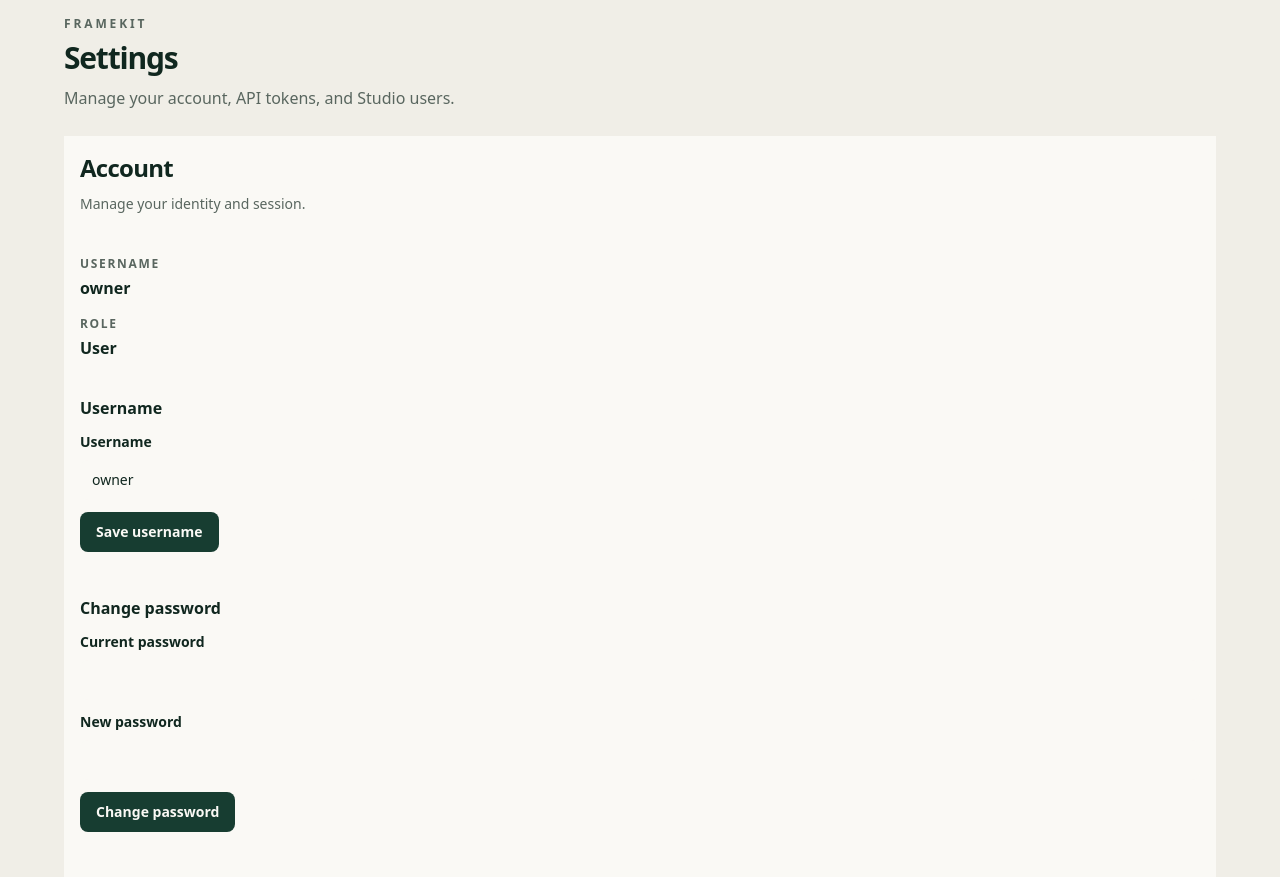
Test: FrameKitStudioSettings account workflows › updates the displayed safe identity and sends the exact account body
Replace the text in the field labelled "Username" with "renamed-owner" at (640, 480), box x1=80 y1=460 x2=1200 y2=500
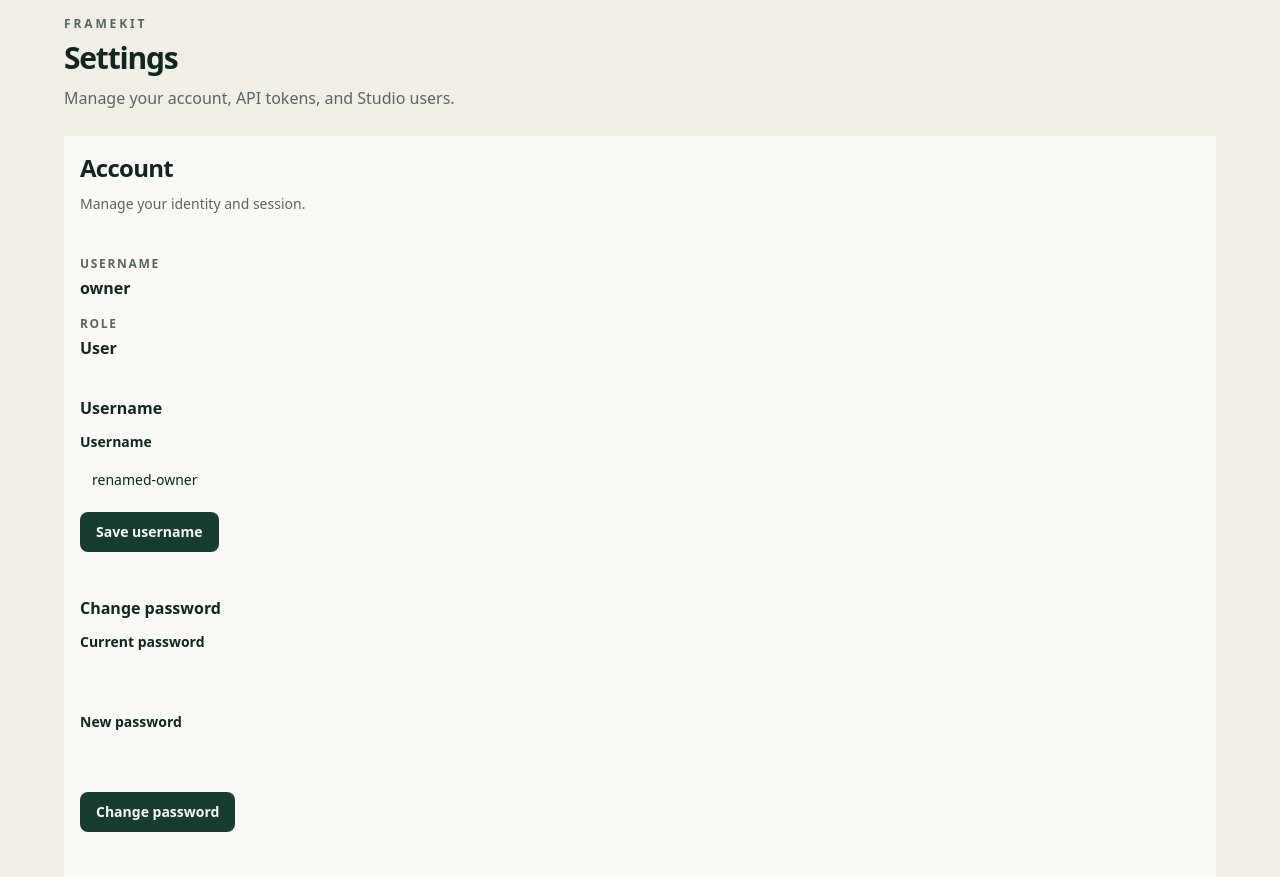
Submit the form "Save username", box x1=80 y1=376 x2=1200 y2=552
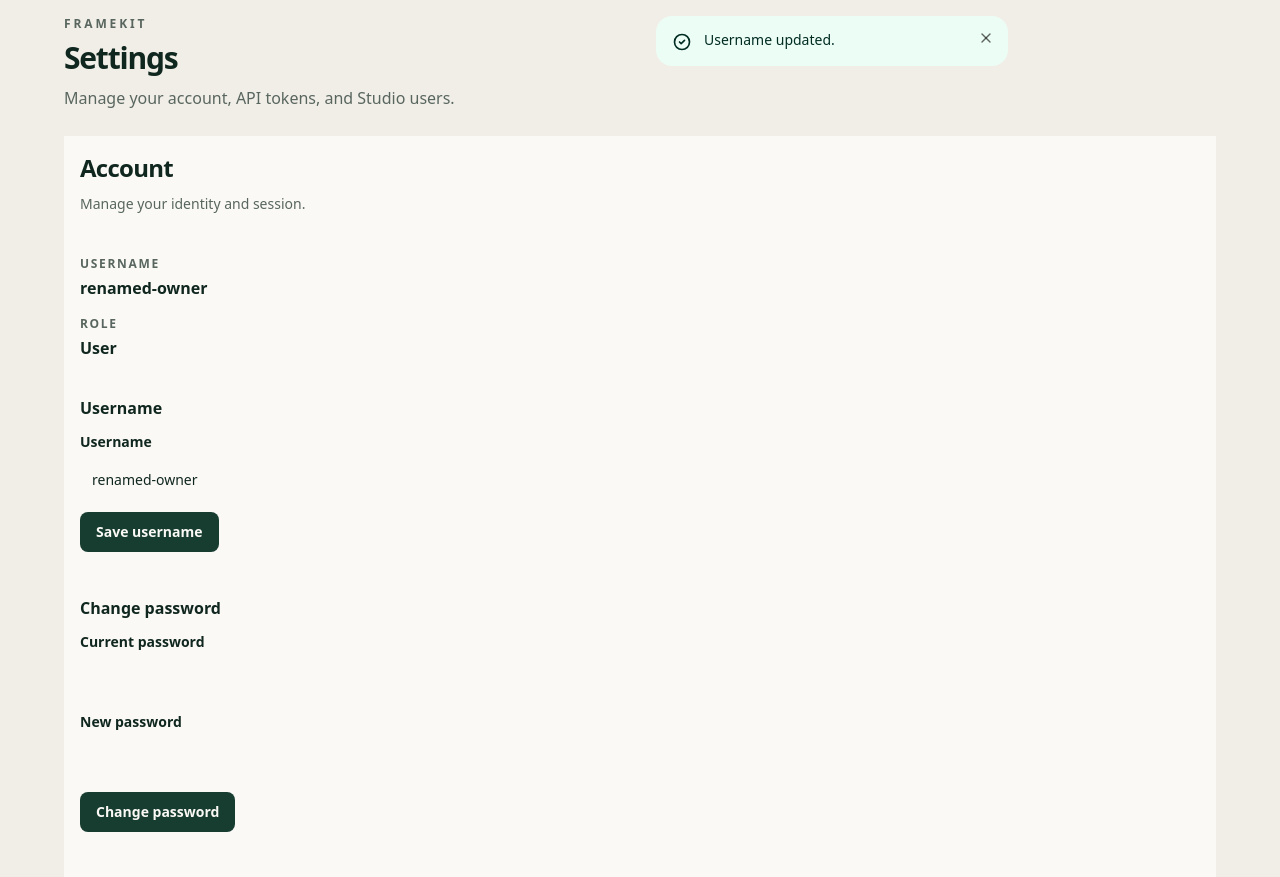
Result: the text "renamed-owner" is shown at x1=80 y1=277 x2=208 y2=299
Result: the message reads "Username updated." at x1=704 y1=30 x2=835 y2=49
